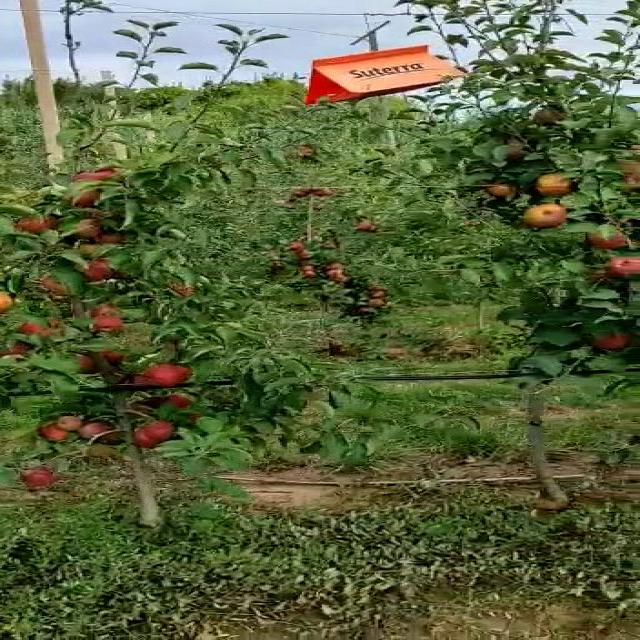100-_ripeness: (138, 414, 191, 445), (516, 202, 573, 230), (65, 167, 124, 191), (585, 325, 633, 351), (22, 212, 65, 240), (15, 316, 58, 344), (584, 224, 634, 248), (27, 419, 71, 446), (66, 217, 109, 244), (89, 314, 136, 337), (74, 183, 114, 210), (82, 257, 124, 279), (538, 169, 569, 198), (146, 362, 183, 386), (162, 390, 205, 410), (603, 254, 640, 277), (128, 427, 166, 448), (53, 414, 89, 431)
